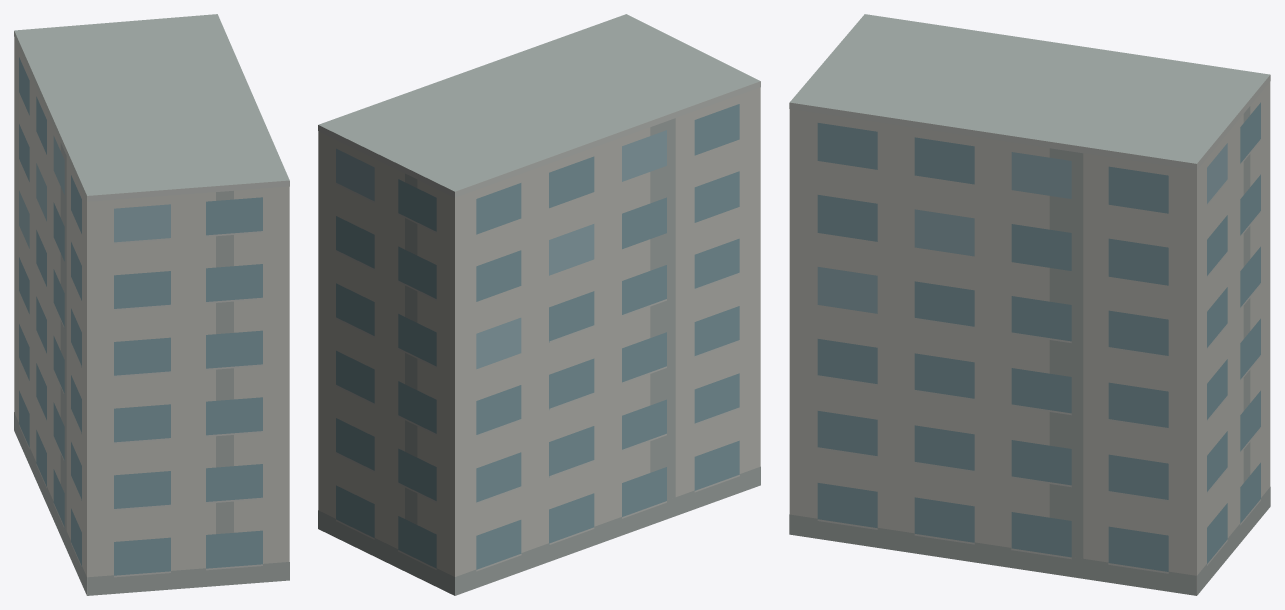
File: survey-upis-32893536.glb
The picture shows the model from 3 angles, left to right: view 1: azimuth 30°, elevation 25°; view 2: azimuth 150°, elevation 25°; view 3: azimuth 270°, elevation 25°; orthographic projection. The views are drawn at different scales.
Parts seen in each view (by area): view 1: survey-upis-32893536.tmp; view 2: survey-upis-32893536.tmp; view 3: survey-upis-32893536.tmp.
Boxes of the visible parts, bbox=[...] form: survey-upis-32893536.tmp: bbox=[14, 14, 289, 595]; survey-upis-32893536.tmp: bbox=[318, 14, 760, 595]; survey-upis-32893536.tmp: bbox=[789, 14, 1270, 595].
Size of the model in its own units: 11.99 by 16.1 by 16.25.
